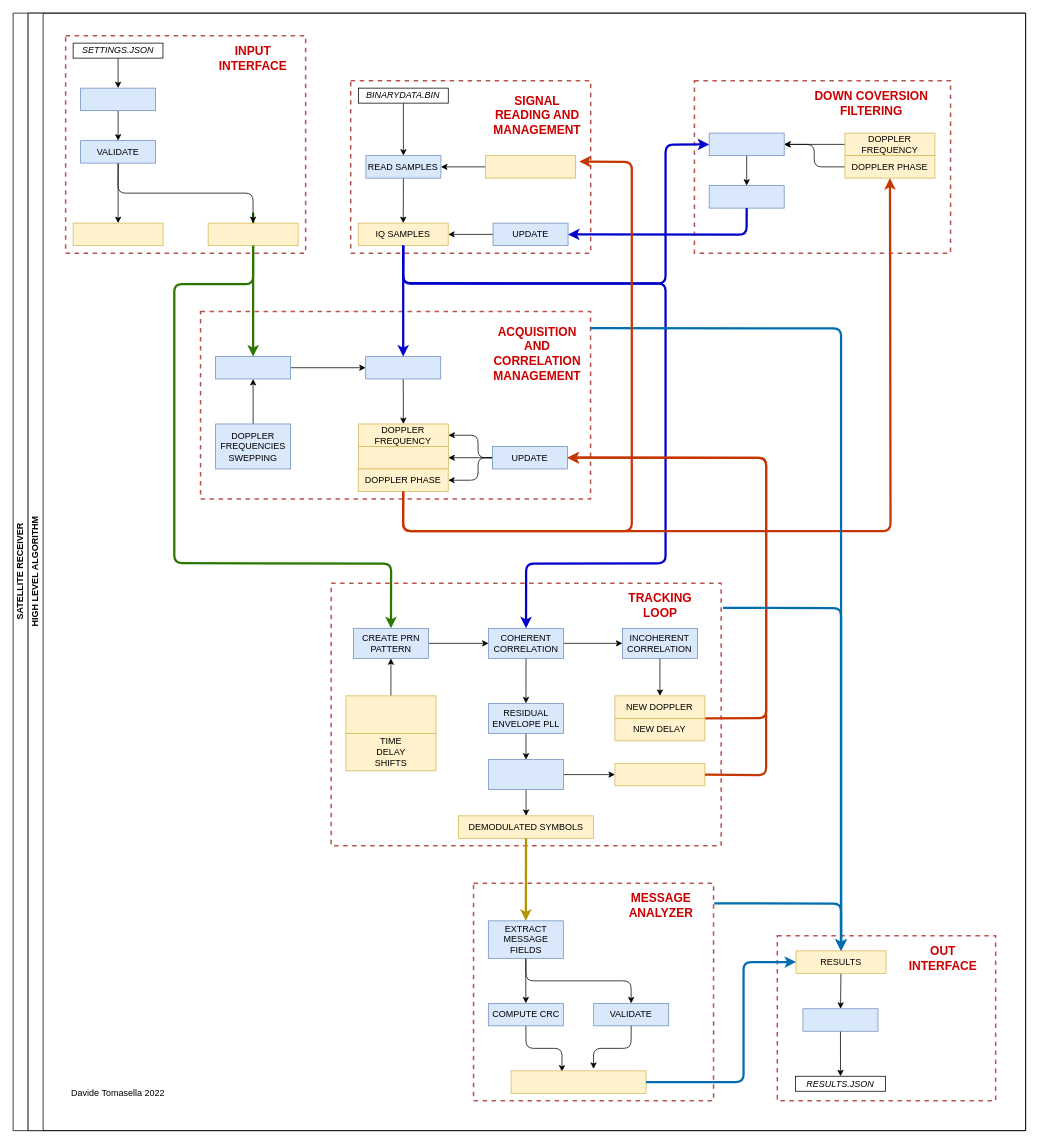
This 1039x1144 diagram has some shape labels left out. Each missing label, with the centre of its shape:
"CORRELATION" belongs at (403,367).
"CREATE SYNC PATTERN" belongs at (253,367).
"DOPPLER FREQUENCY SHIFTS" belongs at (390,714).
"FILTER" belongs at (746,196).
"NEW DOPPLER PHASE" belongs at (659,774).
"PRN CODE" belongs at (252,234).
"READ CONFIG" belongs at (118,99).
"RECEIVED MESSAGE" belongs at (578,1081).
"REMOVE ENVELOPE" belongs at (746,144).
"SAVE RESULTS" belongs at (840,1019).
"SETTINGS" belongs at (117,234).
"STARTING SAMPLE" belongs at (530,166).
"SYMBOLS DEMODULATION" belongs at (526,774).
"TIME DELAY" belongs at (403,457).
